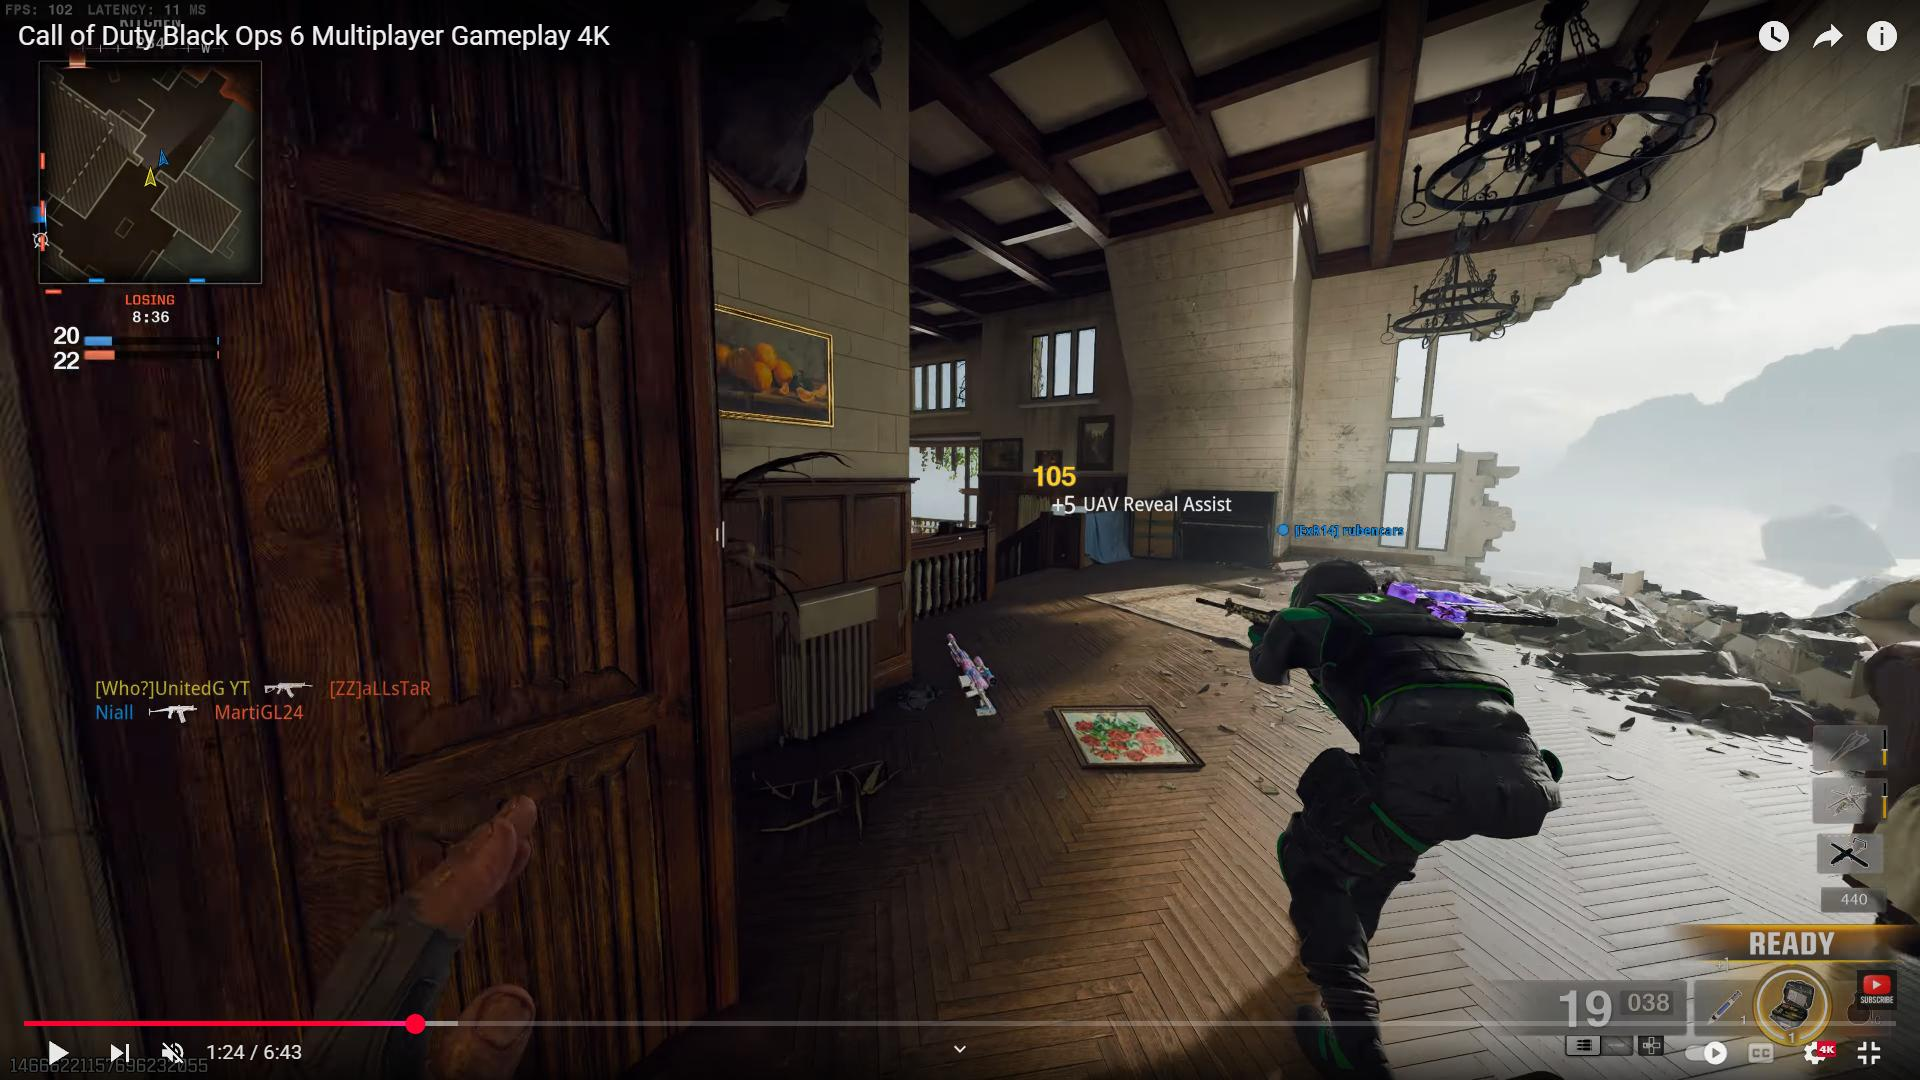Enemy: (1253, 560, 1544, 953)
